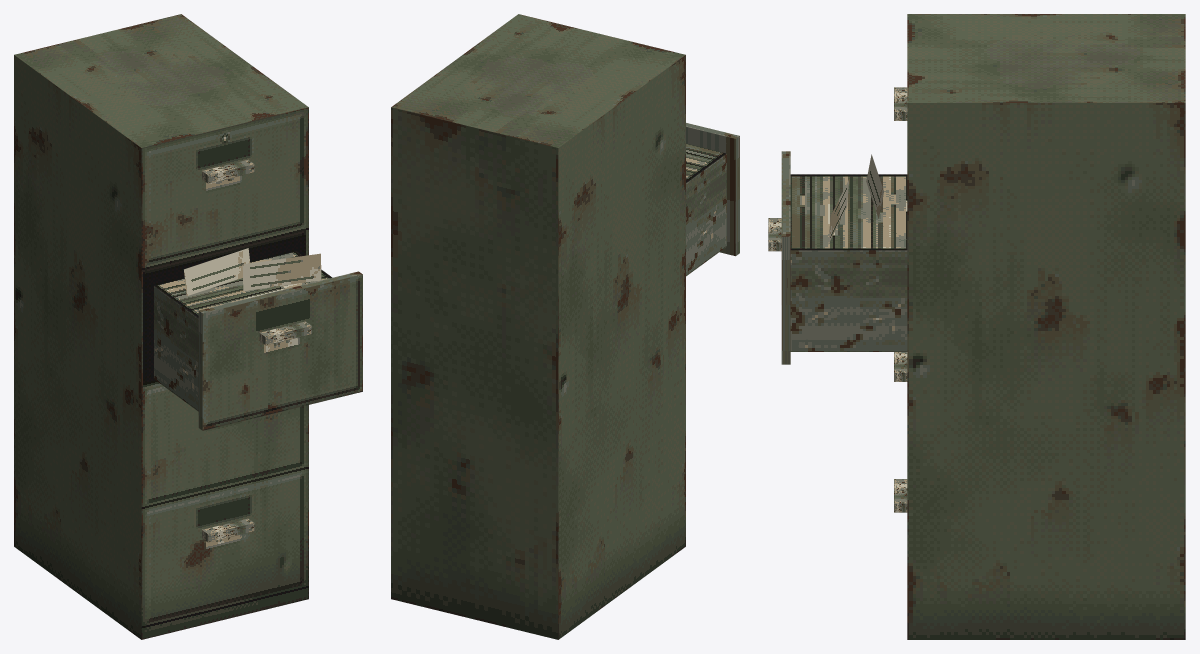
Rendered from filing_cabinet.glb.
The picture shows the model from 3 angles, left to right: view 1: azimuth 30°, elevation 25°; view 2: azimuth 150°, elevation 25°; view 3: azimuth 270°, elevation 25°; orthographic projection. The views are drawn at different scales.
Visible parts, largest first — view 1: filing_cabinet; view 2: filing_cabinet; view 3: filing_cabinet.
Boxes of the visible parts, <box> form: filing_cabinet: <box>14,14,362,639</box>; filing_cabinet: <box>391,14,739,639</box>; filing_cabinet: <box>768,14,1185,639</box>.
Size of the model in its own units: 0.47 by 1.32 by 0.93.
1 material, 1 textured.
